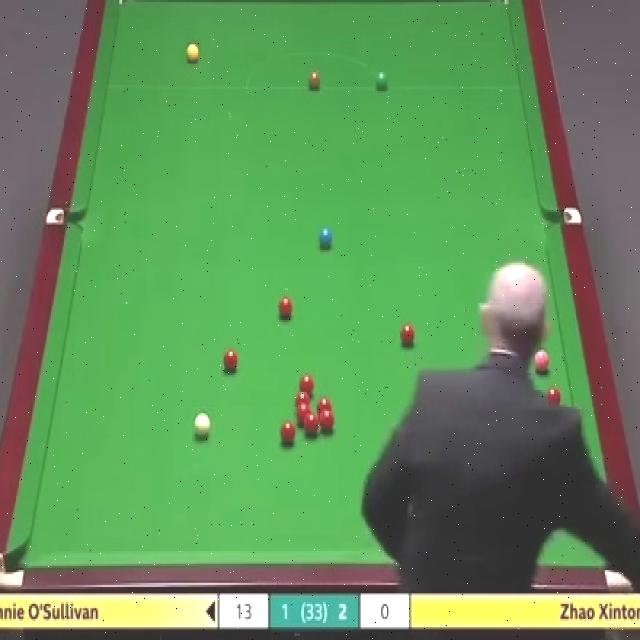blue-ball: (318, 226, 334, 248)
brown-ball: (308, 70, 321, 91)
green-ball: (376, 72, 388, 90)
pink-ball: (534, 348, 550, 374)
red-ball: (222, 347, 240, 376), (278, 420, 296, 446), (543, 388, 561, 413), (319, 410, 335, 435), (401, 322, 416, 348), (278, 297, 294, 320), (304, 412, 318, 436), (298, 374, 315, 392), (296, 405, 311, 424), (295, 390, 310, 407), (317, 399, 332, 413)
white-ball: (194, 412, 211, 438)
yellow-ball: (187, 44, 200, 65)
